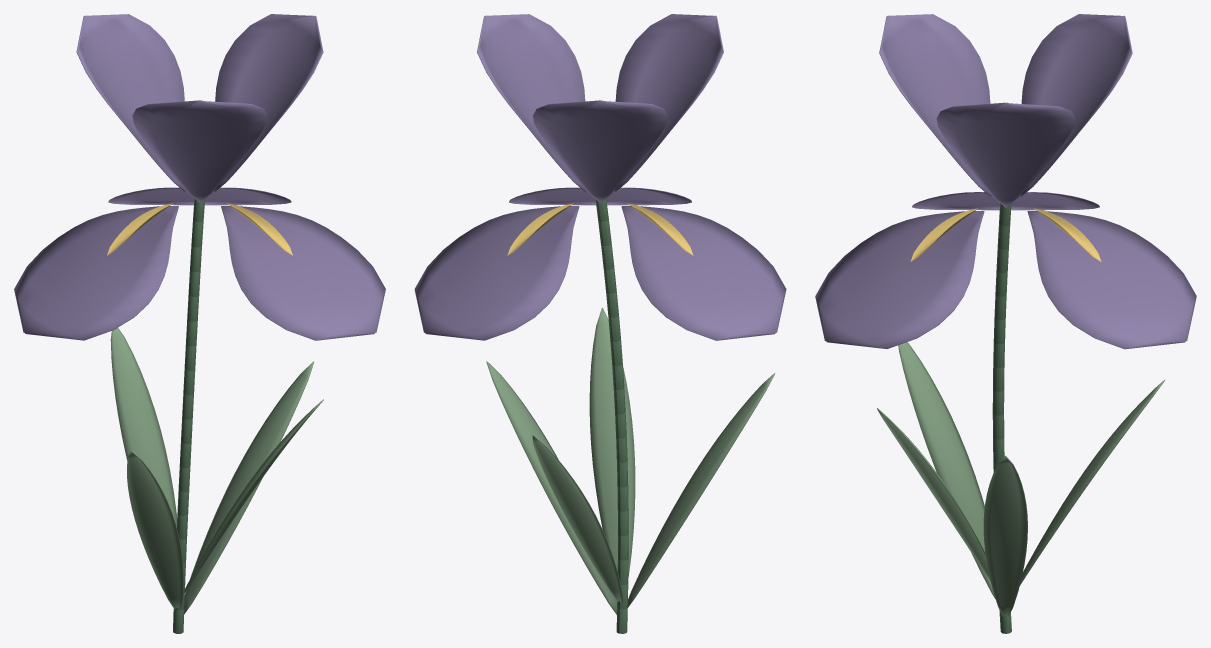
Rendered from iris-common-v2.glb.
3 renders of one model, left to right at view 1: azimuth 30°, elevation 25°; view 2: azimuth 150°, elevation 25°; view 3: azimuth 270°, elevation 25°, orthographic. The views are drawn at different scales.
Visible parts, largest first — view 1: iris-common-v2-petal, iris-common-v2-leaf, iris-common-v2-stem, iris-common-v2-center; view 2: iris-common-v2-petal, iris-common-v2-leaf, iris-common-v2-stem, iris-common-v2-center; view 3: iris-common-v2-petal, iris-common-v2-leaf, iris-common-v2-stem, iris-common-v2-center.
Boxes of the visible parts, box(x1,y1,x2,y2) form: iris-common-v2-petal: box(14, 14, 385, 340); iris-common-v2-leaf: box(110, 327, 323, 614); iris-common-v2-stem: box(173, 198, 204, 633); iris-common-v2-center: box(107, 203, 292, 255); iris-common-v2-petal: box(414, 14, 786, 340); iris-common-v2-leaf: box(486, 307, 775, 614); iris-common-v2-stem: box(595, 198, 628, 633); iris-common-v2-center: box(507, 203, 693, 255); iris-common-v2-petal: box(815, 14, 1196, 349); iris-common-v2-leaf: box(877, 342, 1164, 616); iris-common-v2-stem: box(992, 203, 1011, 633); iris-common-v2-center: box(910, 208, 1101, 261).
Bounding box in the file's own units: 1.15 × 2.1 × 1.21.
